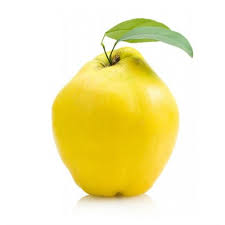Quince: (37, 45, 199, 207)
